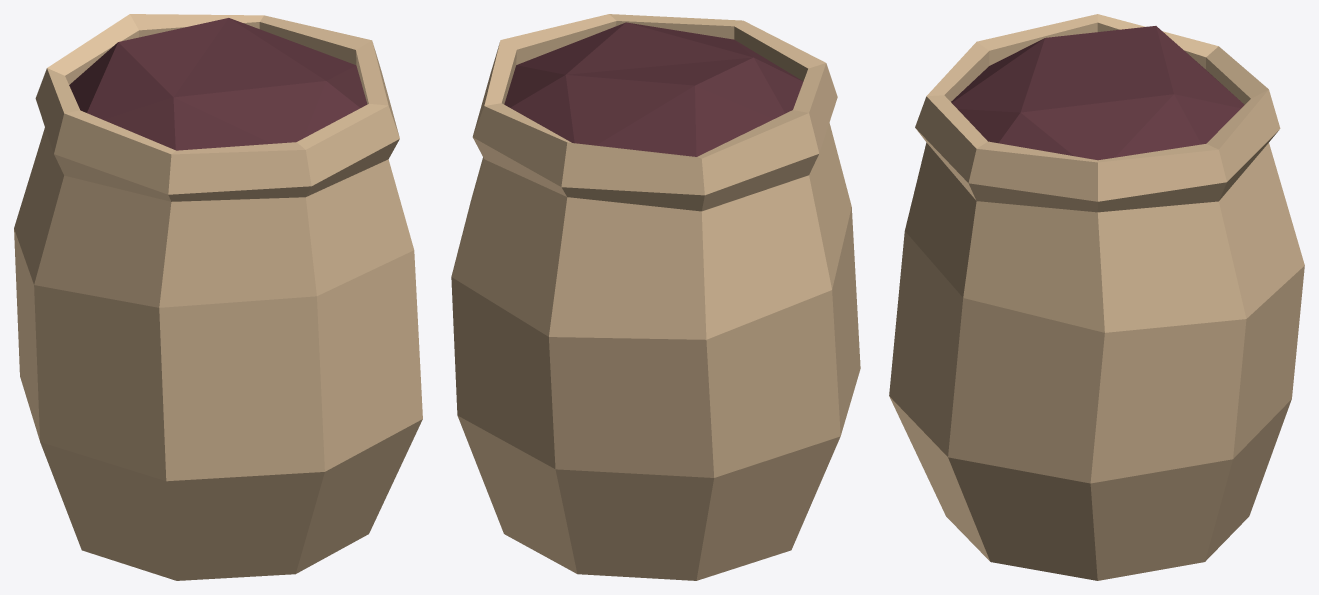
File: egypt-egypt-spice-big.glb
The picture shows the model from 3 angles, left to right: view 1: azimuth 30°, elevation 25°; view 2: azimuth 150°, elevation 25°; view 3: azimuth 270°, elevation 25°; orthographic projection. The views are drawn at different scales.
Parts seen in each view (by area): view 1: egypt-spice-big; view 2: egypt-spice-big; view 3: egypt-spice-big.
Part boxes in pixels (x1,y1,x2,y2): egypt-spice-big: (14,14,422,580); egypt-spice-big: (451,14,860,580); egypt-spice-big: (889,14,1304,580).
Size of the model in its own units: 0.866 by 1.07 by 0.883.
